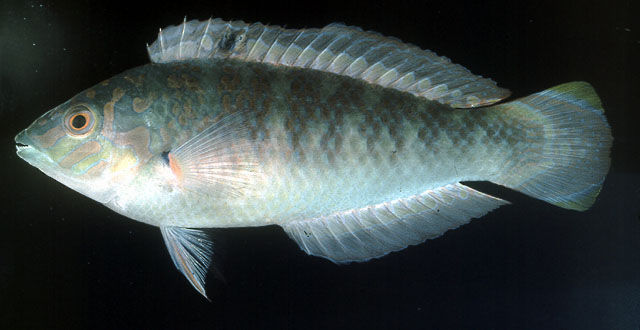fish: (14, 16, 614, 303)
